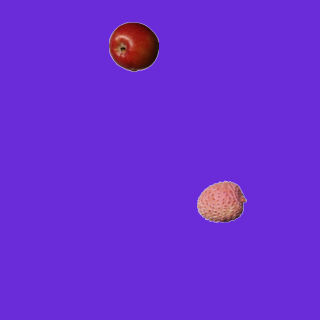Apple Braeburn: (108, 21, 158, 71)
Lychee: (196, 176, 246, 226)
